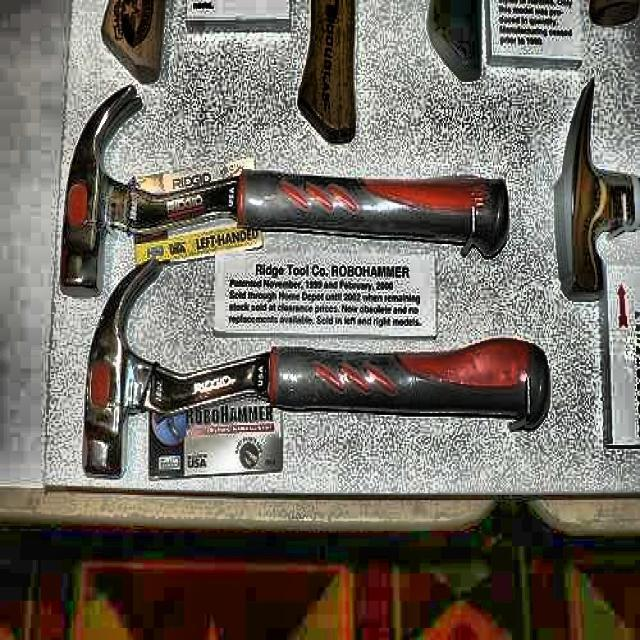hammer: (82, 260, 552, 485), (58, 86, 514, 300), (559, 78, 640, 303)
